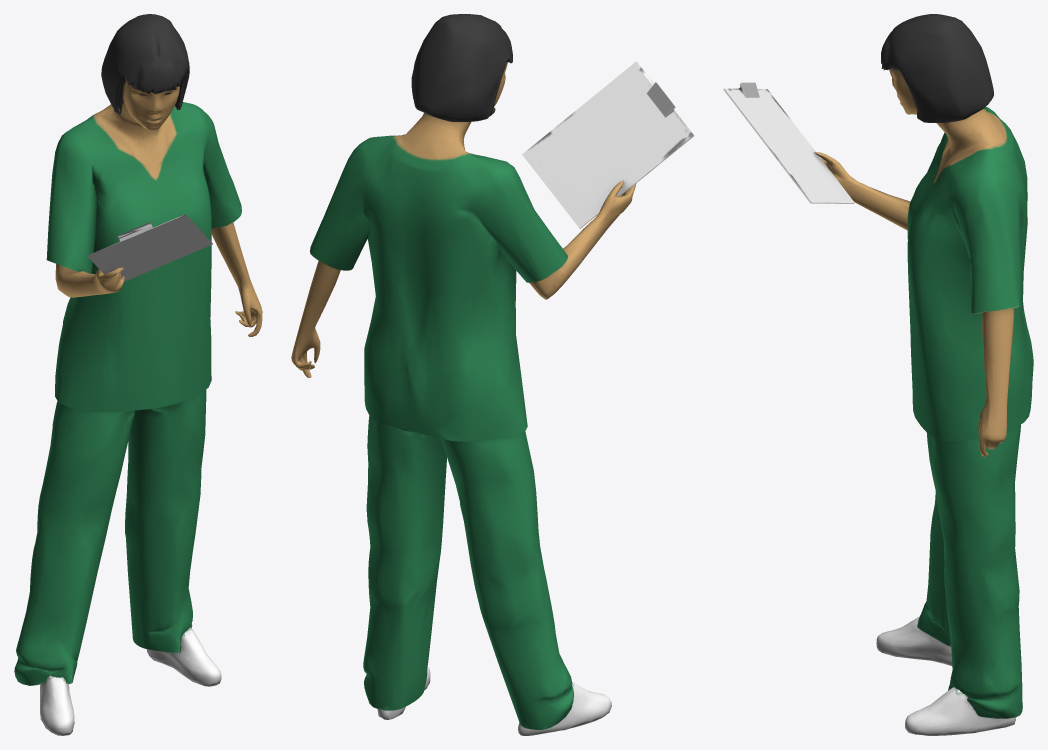
The model's file is Nurse.fbx.
3 views of the same model, side by side, from view 1: azimuth 30°, elevation 25°; view 2: azimuth 150°, elevation 25°; view 3: azimuth 270°, elevation 25° (orthographic). The views are drawn at different scales.
Visible parts, largest first — view 1: Nurse; view 2: Nurse; view 3: Nurse.
Part boxes in pixels (<box>): Nurse: <box>14,14,262,735</box>; Nurse: <box>291,14,694,735</box>; Nurse: <box>723,14,1033,735</box>.
Bounding box in the file's own units: 0.7623 × 1.73 × 0.7061.
